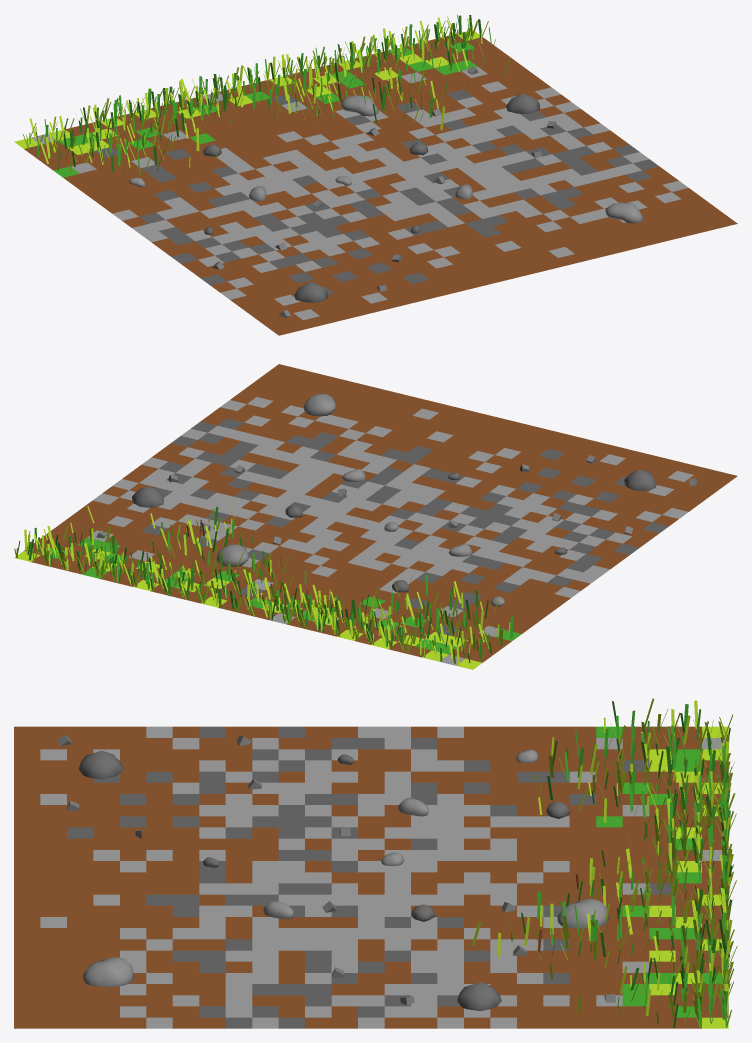
File: sol mapG.fbx
3 views of the same model, one above another, from view 1: azimuth 30°, elevation 25°; view 2: azimuth 150°, elevation 25°; view 3: azimuth 270°, elevation 25° (orthographic). The views are drawn at different scales.
Visible parts, largest first — view 1: sol droit; view 2: sol droit; view 3: sol droit.
Part boxes in pixels (x1,y1,x2,y2): sol droit: (14, 14, 737, 335); sol droit: (14, 364, 737, 669); sol droit: (14, 698, 737, 1028).
Size of the model in its own units: 203 by 11.88 by 203.
